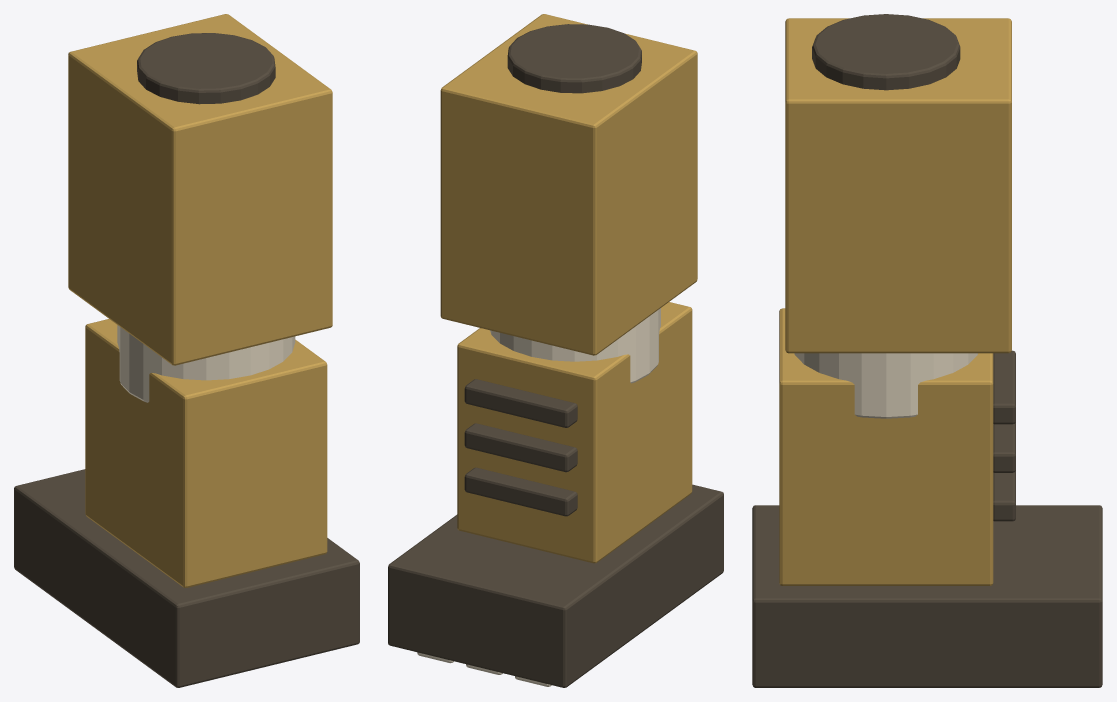
File: warden-leg-v1.glb
3 renders of one model, left to right at view 1: azimuth 30°, elevation 25°; view 2: azimuth 150°, elevation 25°; view 3: azimuth 270°, elevation 25°, orthographic. The views are drawn at different scales.
Visible parts, largest first — view 1: Mission1_warden-leg; view 2: Mission1_warden-leg; view 3: Mission1_warden-leg.
Boxes of the visible parts, left/top/right/bottom form: Mission1_warden-leg: left=14, top=14, right=359, bottom=687; Mission1_warden-leg: left=388, top=14, right=723, bottom=687; Mission1_warden-leg: left=752, top=14, right=1102, bottom=687.
Bounding box in the file's own units: 0.55 × 1.63 × 0.85.
